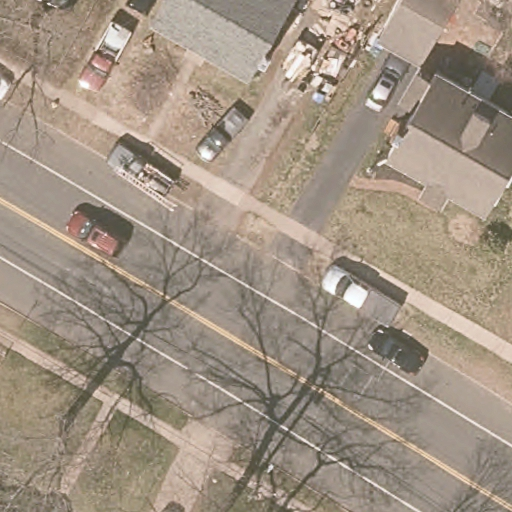DT: (246, 462, 283, 512)
